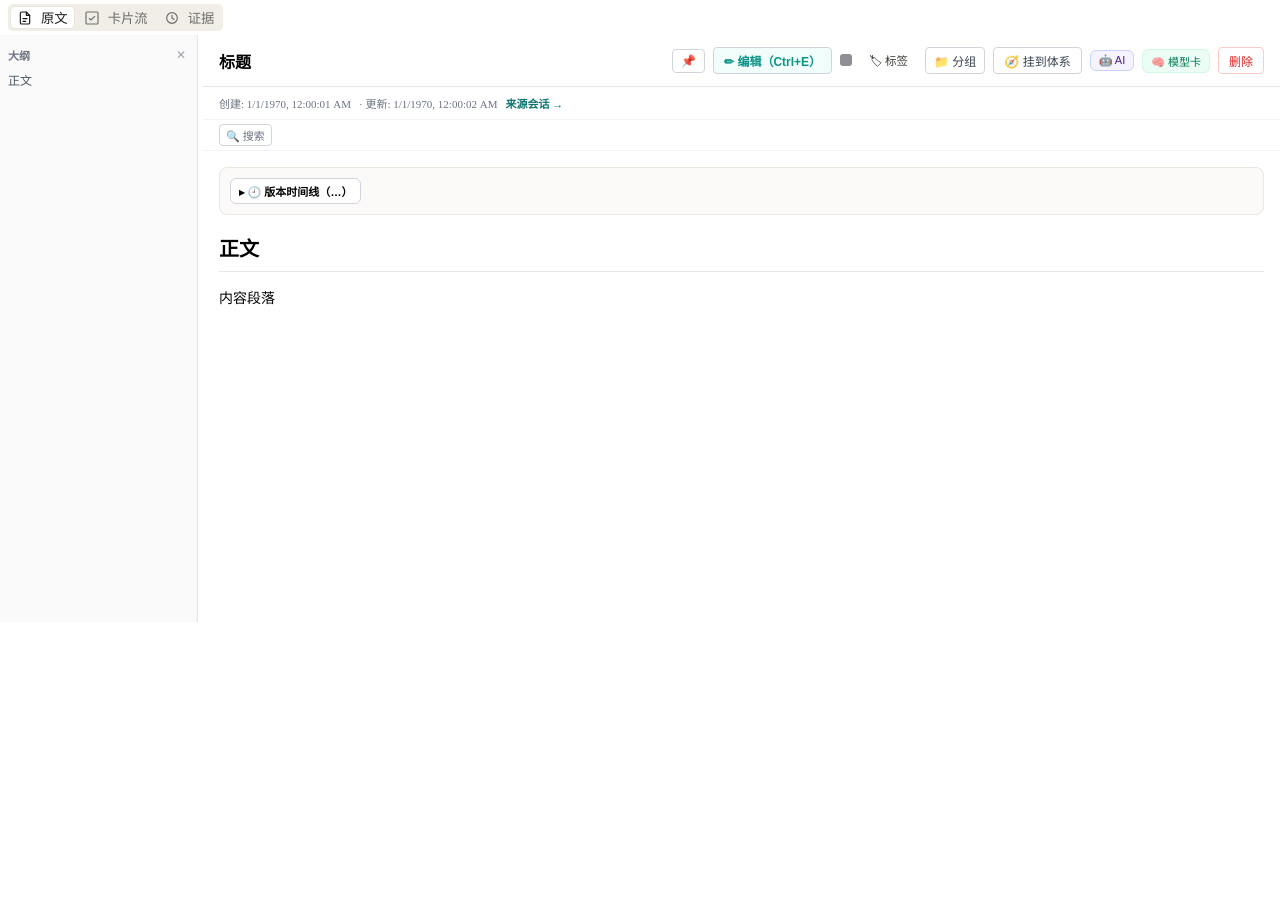
it: F15 注入路径被真正消费（夹具 lines 与自派生**刻意不同**） › F15 注入 3 段 / 正文自派生 2 段 ⇒ DOM 渲染**注入**的 3 段与逐字文本（忽略注入即红）
The image size is (1280, 900).
Click the button "证据": (189,18) left=157, top=6, right=221, bottom=29
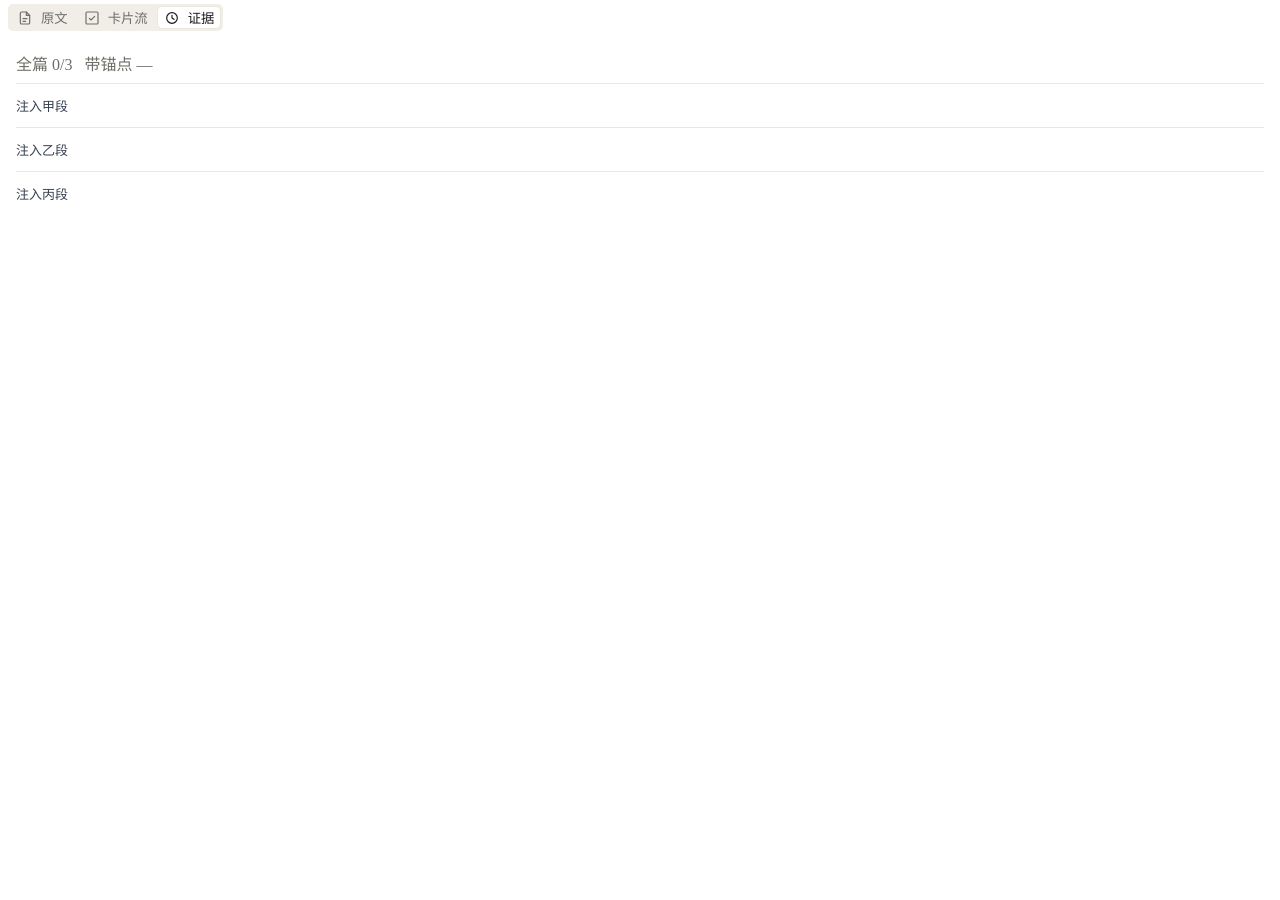
expect the text "注入甲段" is shown: met, box left=16, top=99, right=68, bottom=114
expect the text "注入乙段" is shown: met, box left=16, top=143, right=68, bottom=158
expect the text "注入丙段" is shown: met, box left=16, top=187, right=68, bottom=202
